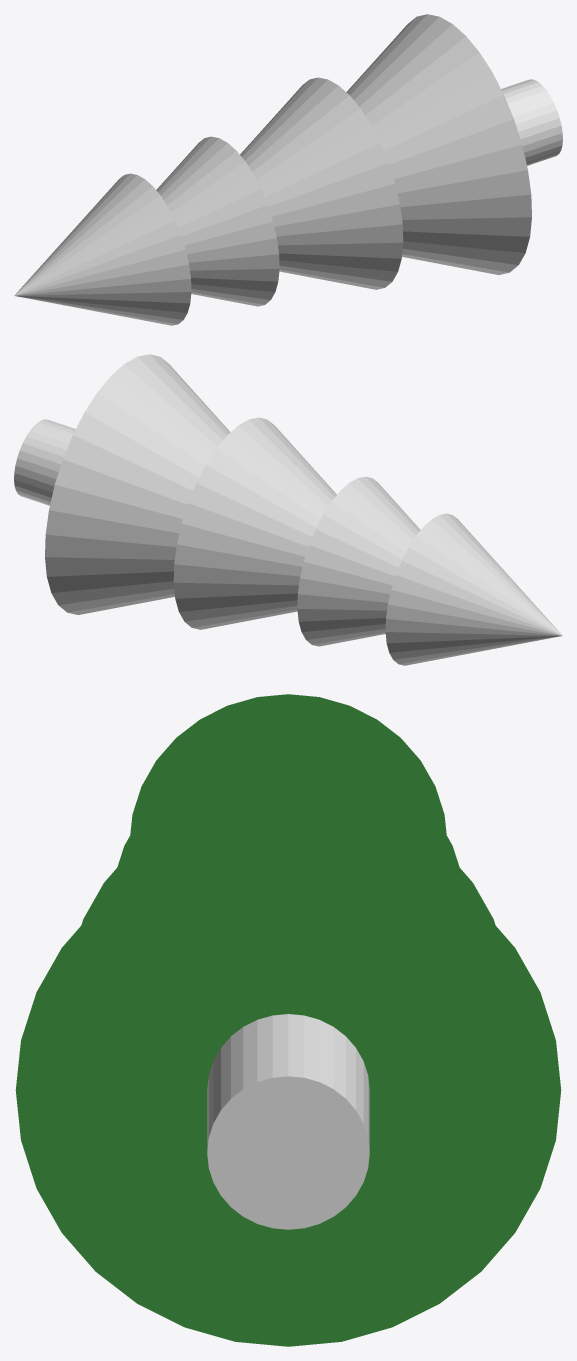
The model's file is TreeV3.fbx.
3 views of the same model, one above another, from view 1: azimuth 30°, elevation 25°; view 2: azimuth 150°, elevation 25°; view 3: azimuth 270°, elevation 25° (orthographic). The views are drawn at different scales.
Visible parts, largest first — view 1: Tree V3; view 2: Tree V3; view 3: Tree V3.
Part boxes in pixels (x1,y1,x2,y2): Tree V3: (14,14,562,325); Tree V3: (14,354,562,665); Tree V3: (15,694,561,1346).
Bounding box in the file's own units: 343 × 772 × 341.
